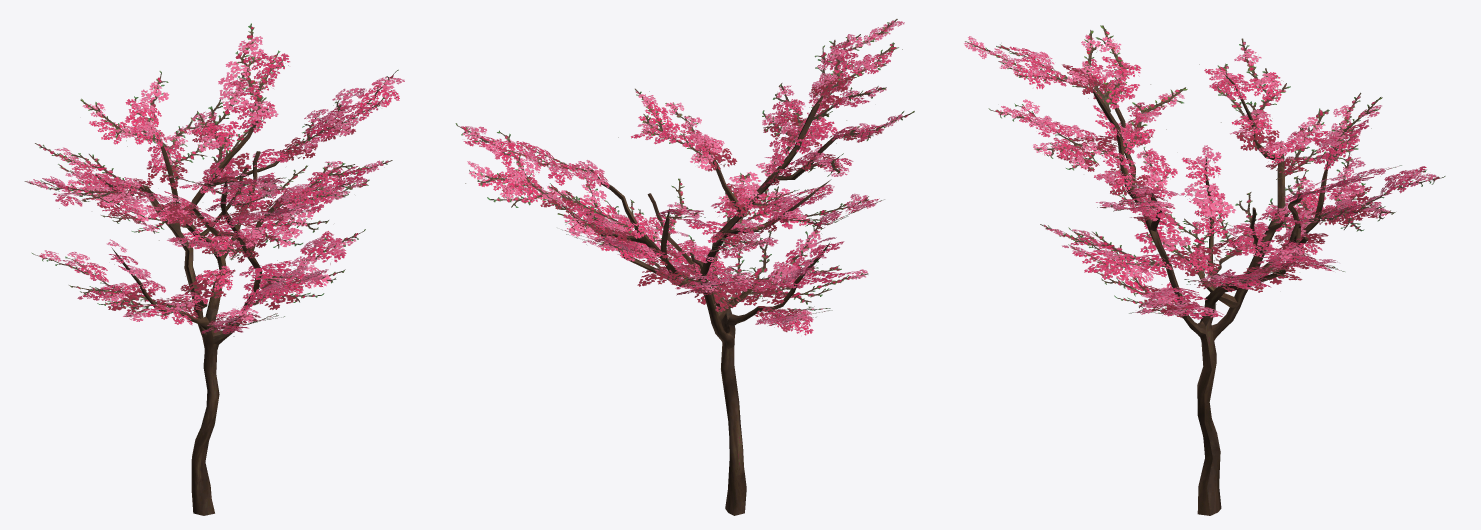
The model's file is jd_taoshu_2.FBX.
3 renders of one model, left to right at view 1: azimuth 30°, elevation 25°; view 2: azimuth 150°, elevation 25°; view 3: azimuth 270°, elevation 25°, orthographic. The views are drawn at different scales.
Visible parts, largest first — view 1: jd_taoshu_2; view 2: jd_taoshu_2; view 3: jd_taoshu_2.
Part boxes in pixels (box(x1,y1,x2,y2)): jd_taoshu_2: box(24, 23, 404, 515); jd_taoshu_2: box(455, 19, 914, 515); jd_taoshu_2: box(964, 25, 1445, 515).
Bounding box in the file's own units: 414 × 388 × 402.
